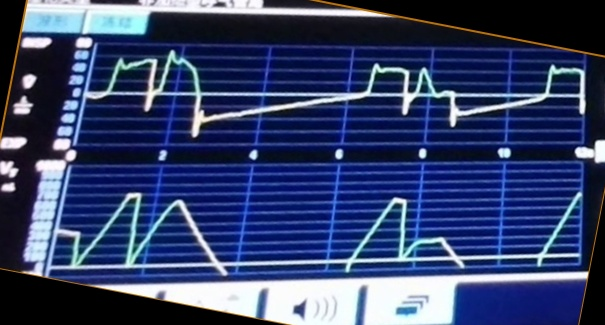Double_Triggering Flow: (90, 47, 475, 144)
Double_Triggering Volume: (56, 188, 474, 274)
